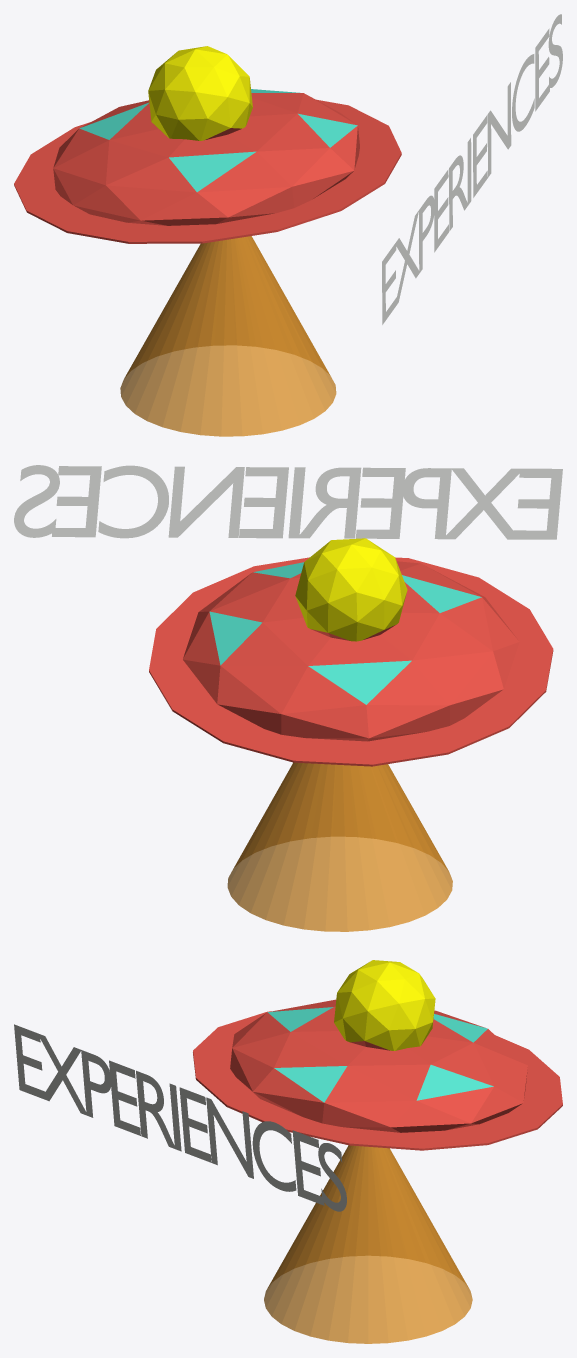
The model's file is lowpoly_ufo.glb.
3 renders of one model, top to bottom at view 1: azimuth 30°, elevation 25°; view 2: azimuth 150°, elevation 25°; view 3: azimuth 270°, elevation 25°, orthographic. The views are drawn at different scales.
Visible parts, largest first — view 1: UFO_Experiences, Cone, Text; view 2: UFO_Experiences, Cone, Text; view 3: UFO_Experiences, Cone, Text.
Part boxes in pixels (bbox=[...]): UFO_Experiences: bbox=[14, 46, 401, 243]; Cone: bbox=[120, 236, 336, 436]; Text: bbox=[382, 14, 562, 324]; UFO_Experiences: bbox=[149, 538, 553, 766]; Cone: bbox=[227, 762, 452, 931]; Text: bbox=[14, 465, 562, 539]; UFO_Experiences: bbox=[193, 960, 562, 1150]; Cone: bbox=[264, 1145, 472, 1343]; Text: bbox=[14, 1024, 346, 1211].
Bounding box in the file's own units: 5.39 × 3.46 × 5.26.
